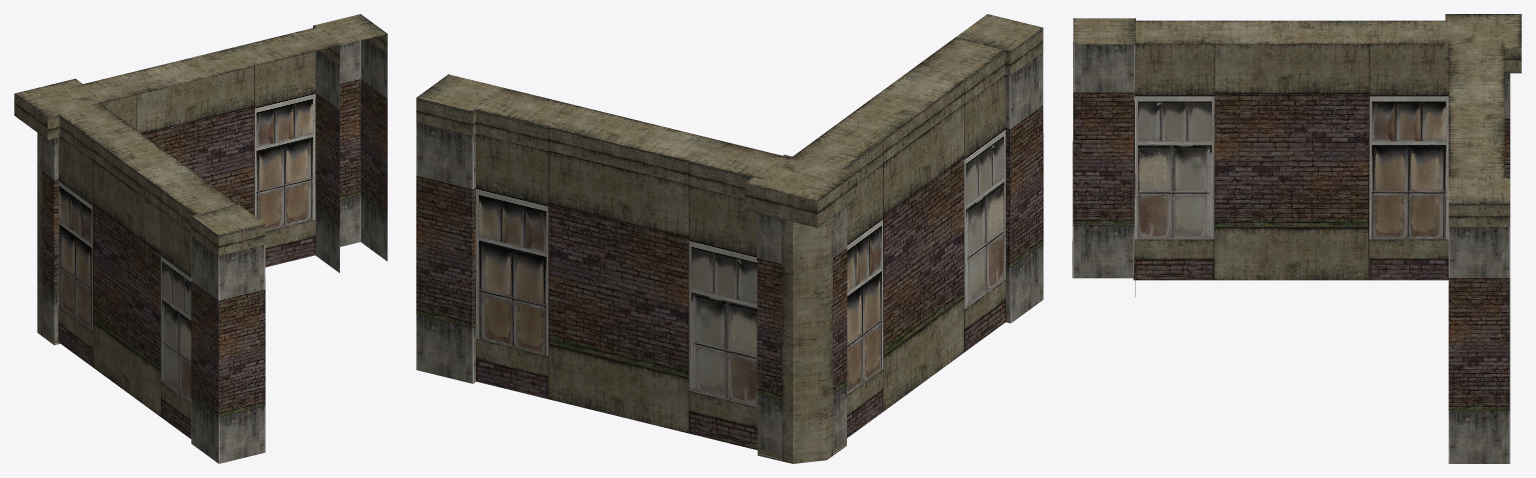
The model's file is Corner_Building_Part_02_Tile.fbx.
3 renders of one model, left to right at view 1: azimuth 30°, elevation 25°; view 2: azimuth 150°, elevation 25°; view 3: azimuth 270°, elevation 25°, orthographic. The views are drawn at different scales.
Parts seen in each view (by area): view 1: Corner_Building_Part_02_Tile; view 2: Corner_Building_Part_02_Tile; view 3: Corner_Building_Part_02_Tile.
Part boxes in pixels (bbox=[...]): Corner_Building_Part_02_Tile: bbox=[14, 14, 387, 463]; Corner_Building_Part_02_Tile: bbox=[416, 14, 1043, 463]; Corner_Building_Part_02_Tile: bbox=[1072, 14, 1521, 463].
Size of the model in its own units: 716 by 461 by 716.
